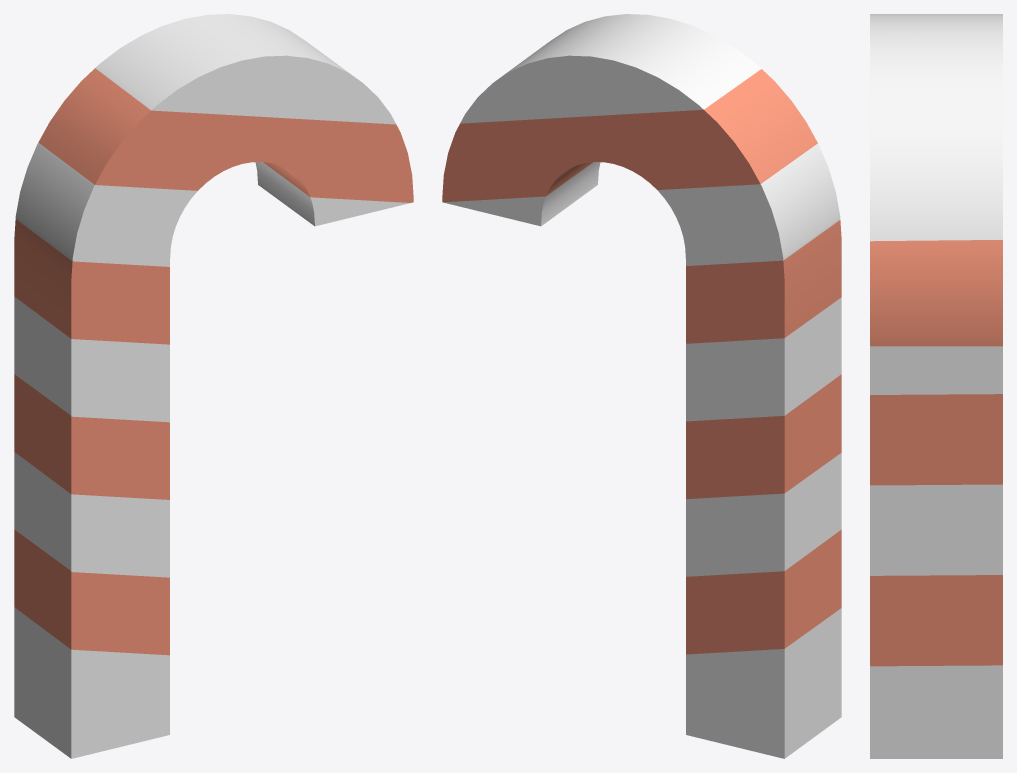
Rendered from candyCane.glb.
3 views of the same model, side by side, from view 1: azimuth 30°, elevation 25°; view 2: azimuth 150°, elevation 25°; view 3: azimuth 270°, elevation 25° (orthographic). The views are drawn at different scales.
Parts seen in each view (by area): view 1: candyCane(Clone); view 2: candyCane(Clone); view 3: candyCane(Clone).
Boxes of the visible parts, x1,y1,x2,y2 form: candyCane(Clone): (14, 14, 413, 758); candyCane(Clone): (442, 14, 841, 758); candyCane(Clone): (870, 14, 1002, 758).
Size of the model in its own units: 0.1383 by 0.2537 by 0.0399.
